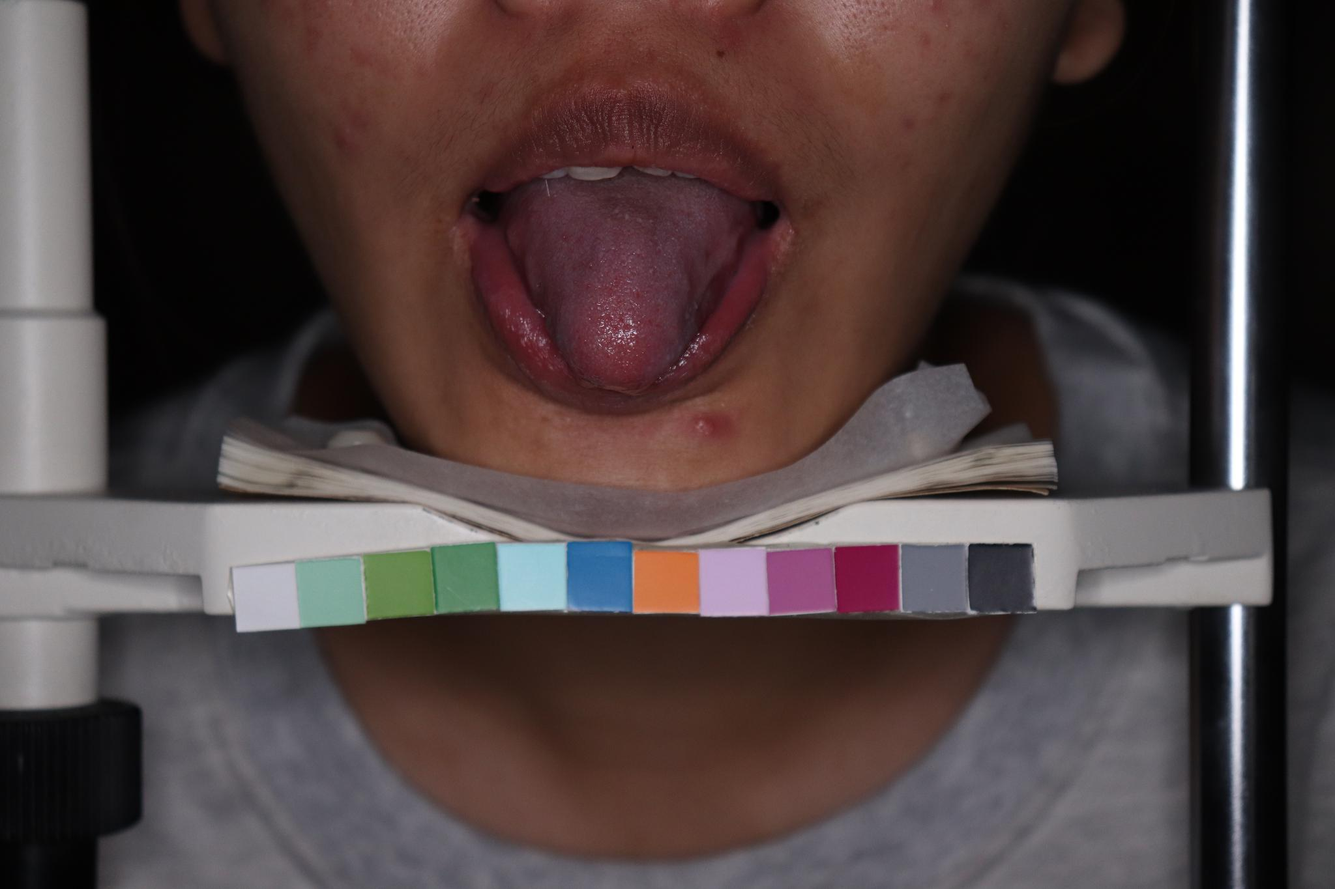baitaishe: (492, 175, 748, 401)
chihenshe: (674, 221, 749, 337), (495, 210, 554, 309)
zishe: (492, 175, 748, 401)
